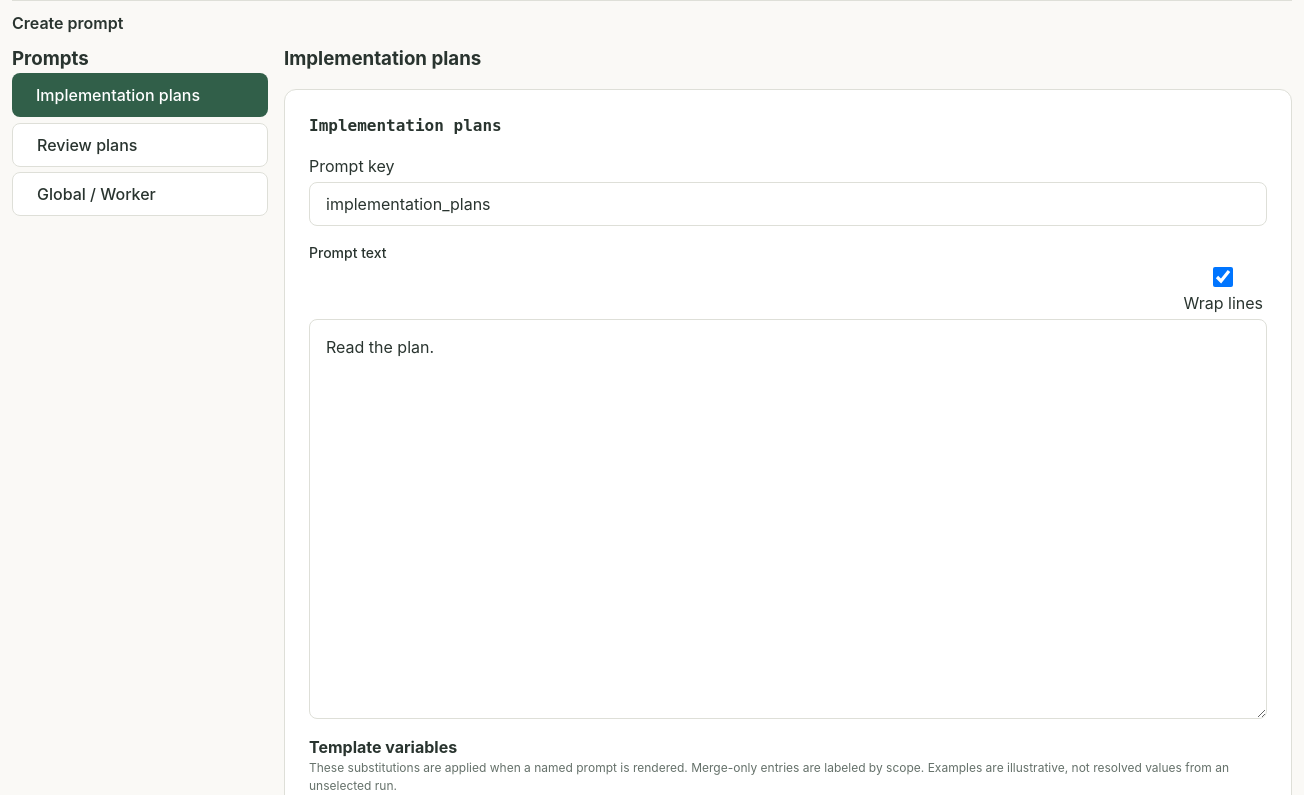
Test: PromptsSettings › explains that role overrides are literal while retaining the shared reference
What coordinates should you click on to do the following:
click the button "Global / Worker"
I would click on:
 (140, 194)
Its box is [12,172,268,216].
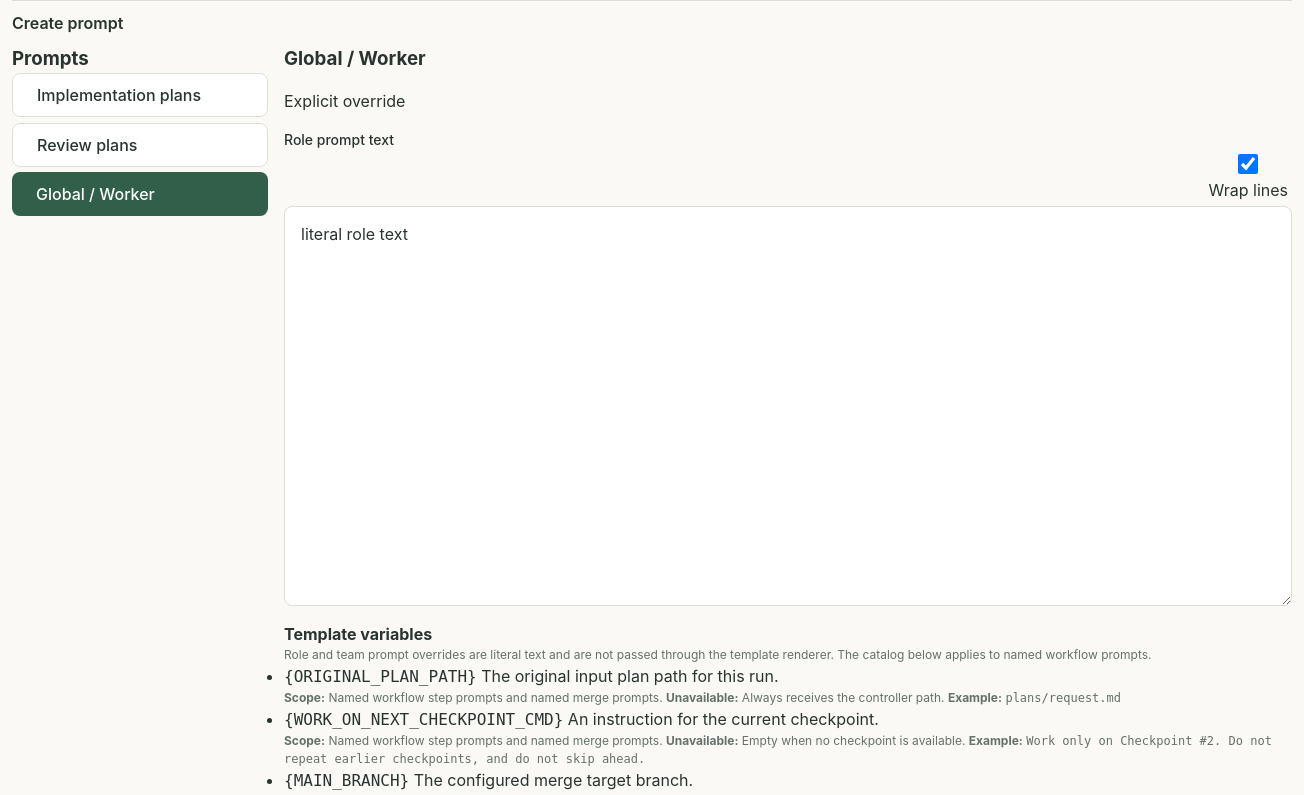
Expected: the text "{MAIN_BRANCH}" is shown, [284,771,409,790]
Result: the text "Role and team prompt overrides are literal text" is shown at [284,647,1152,662]
